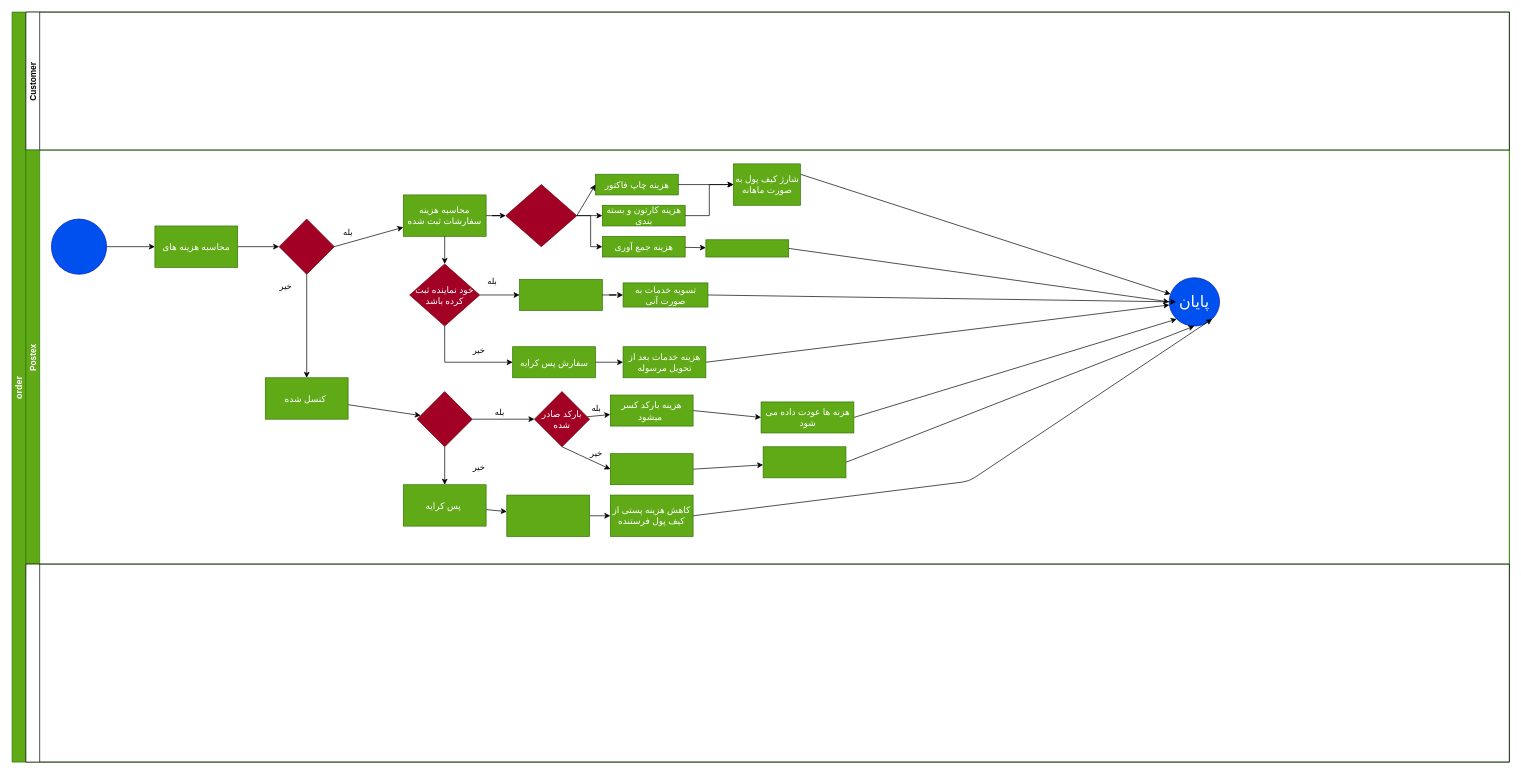
The diagram is 1521 pixels wide and 774 high, and some of its shapes have lost their labels. The shapes that lost their labels are listed below. From the top down, each one's centre as x and y in pixels, then its label:
point 541,215: خدمات انتخاب شده توسط مشتری
point 79,246: شروع
point 306,246: سفارش ارسال شده
point 747,248: شارژ کیف پول لحظه ای
point 560,294: سفارش پیش کرایه
point 444,419: پیش کرایه
point 651,469: مشکل سیستمی بود
point 804,462: همه هزینه ها عودت داده میشود
point 548,515: صورت حساب منفی از گیت وی
point 767,662: Vendor
